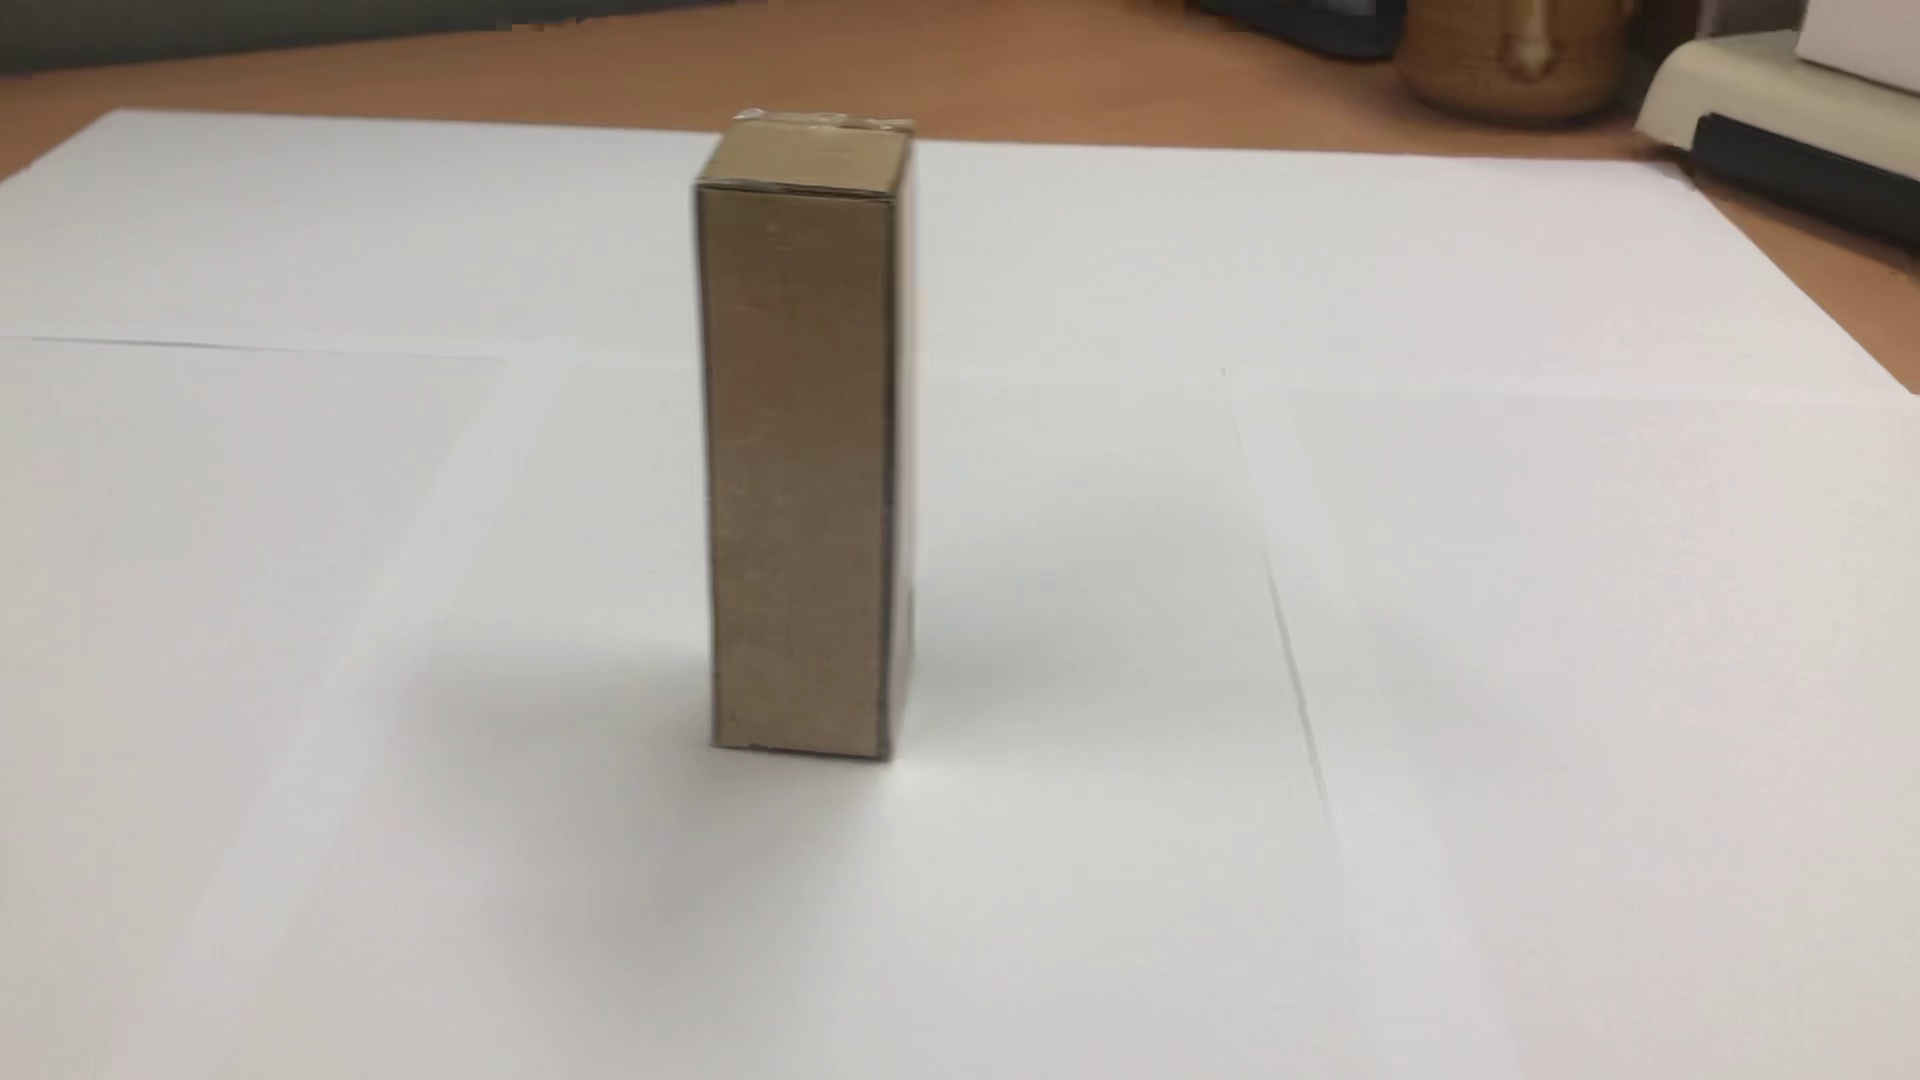box: (669, 98, 951, 785)
